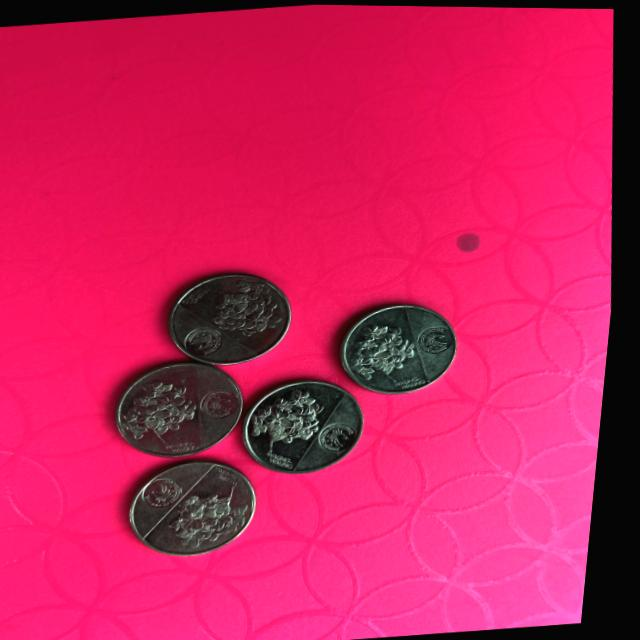1_New_Back: (124, 370, 219, 443), (179, 477, 267, 549), (344, 313, 424, 386), (205, 268, 287, 336), (254, 390, 335, 447)
